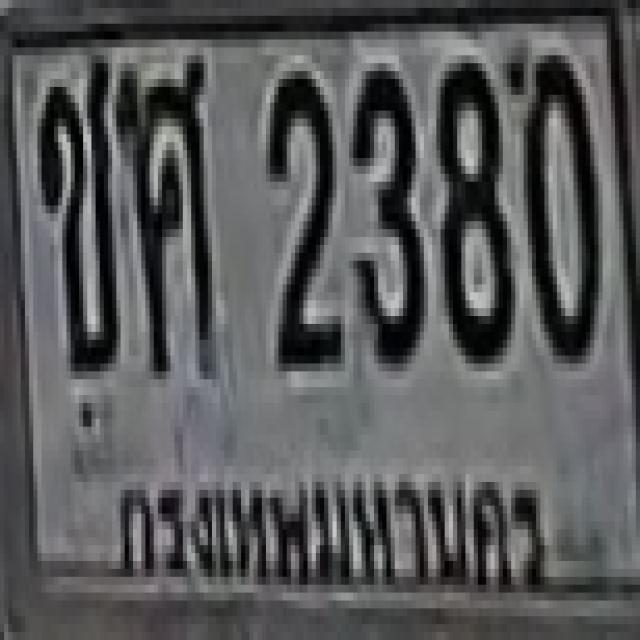0: (520, 47, 594, 356)
2: (266, 59, 337, 360)
3: (349, 63, 420, 356)
8: (436, 56, 507, 356)
A10: (38, 51, 116, 368)
A38: (118, 44, 210, 368)
BKK: (102, 440, 551, 600)
